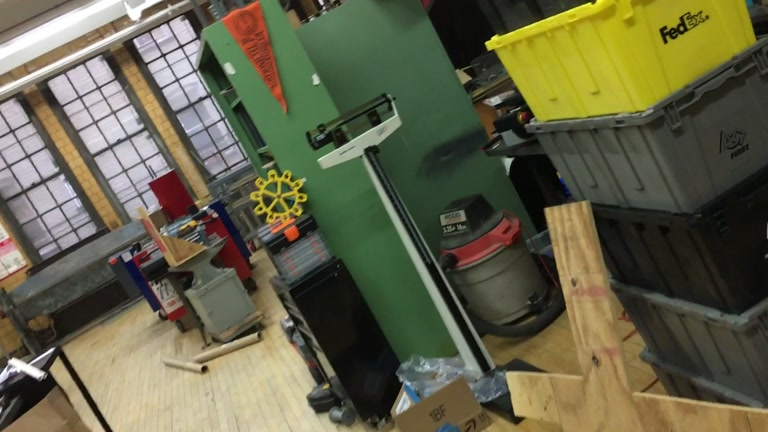gear: (251, 168, 306, 224)
